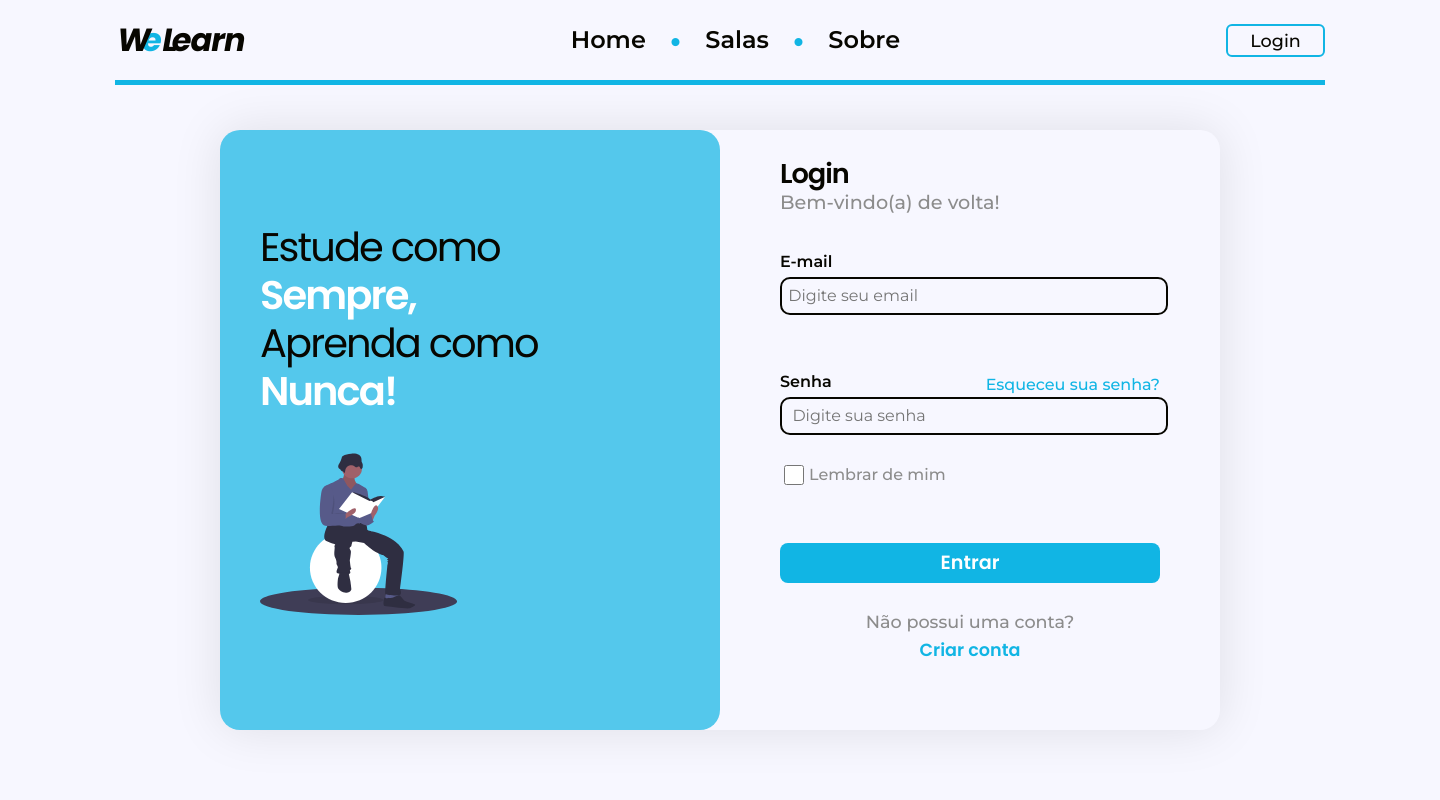
Test: Login Page › should display error when email is not entered
Simula o envio do formulário sem o e-mail
Type "password123" into the password field with placeholder " Digite sua senha" at (974, 416), box 780,397 -> 1168,435
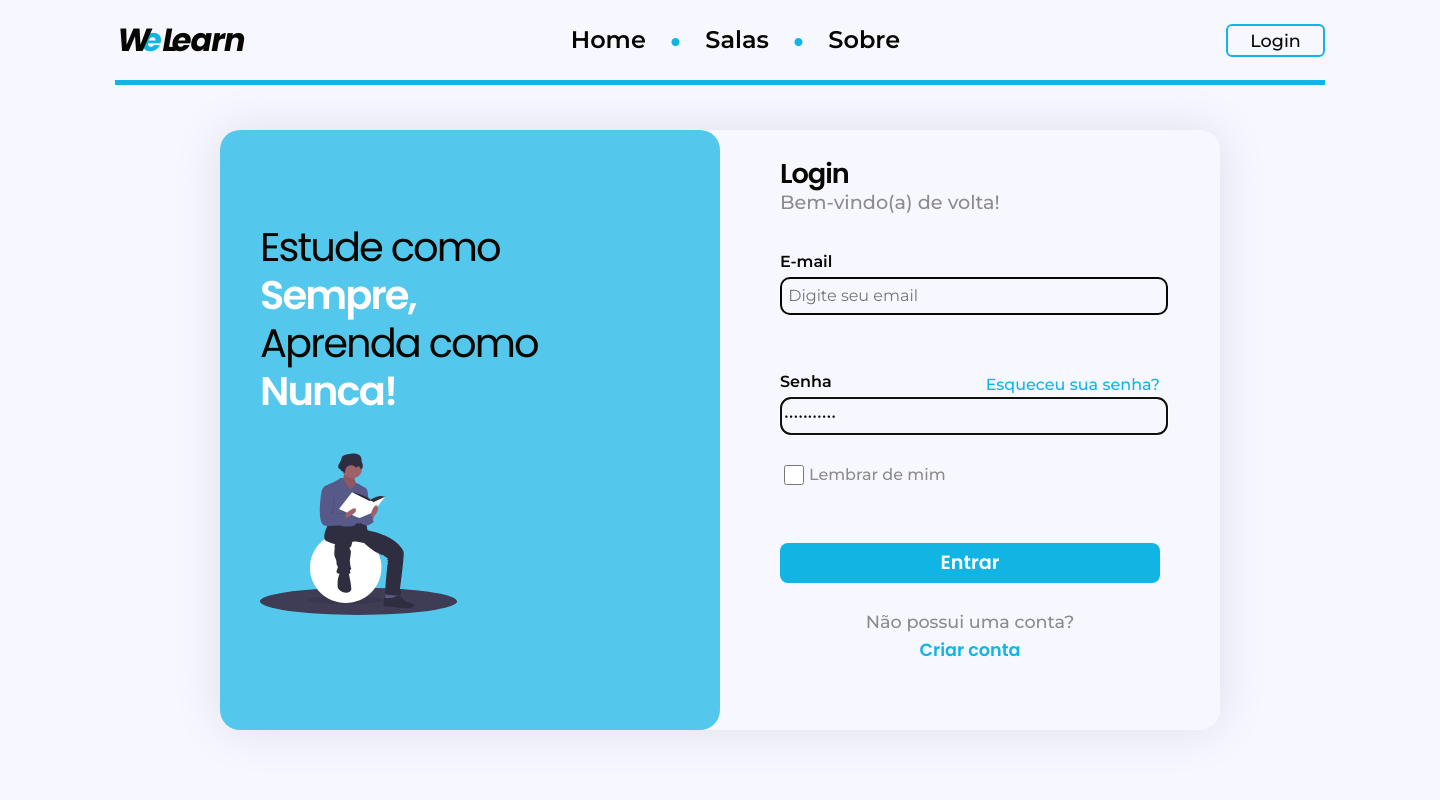
Click the button "Entrar" at (970, 563), box 780,543 -> 1160,583
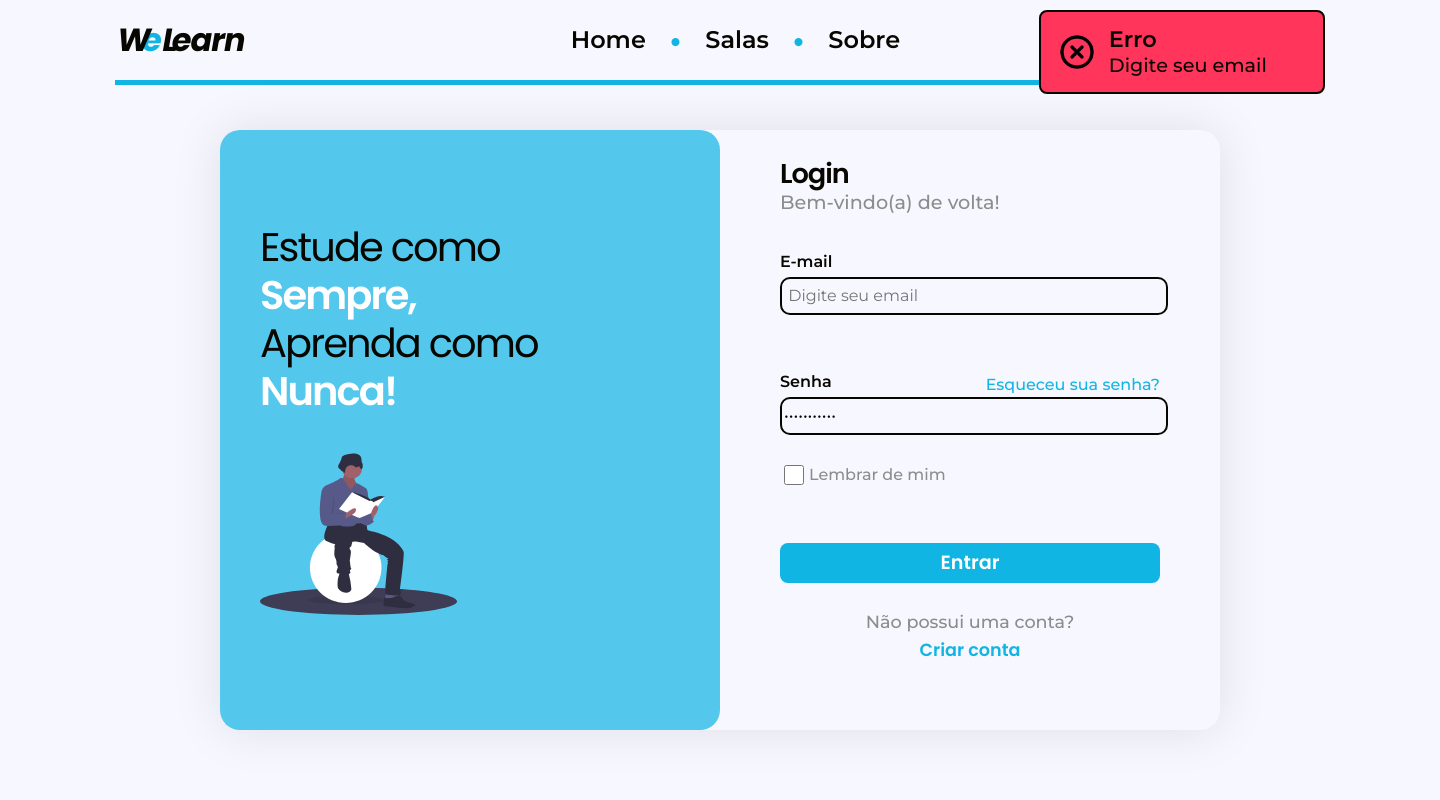
Expected: the text "Digite seu email" is shown, 1109,56 -> 1267,76
